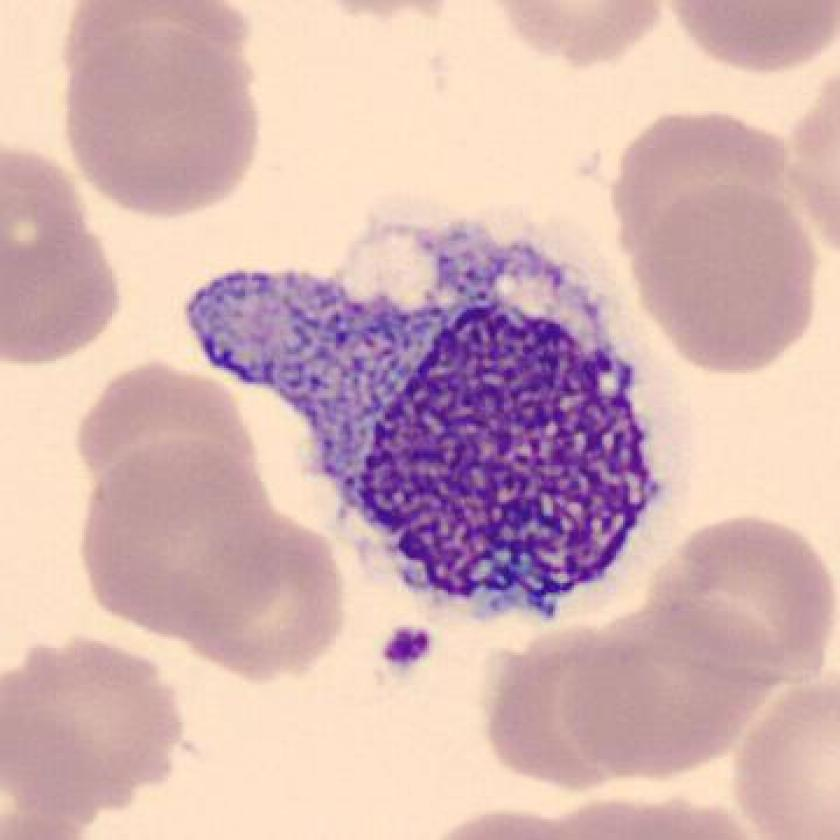monocyte: (178, 193, 701, 647)
